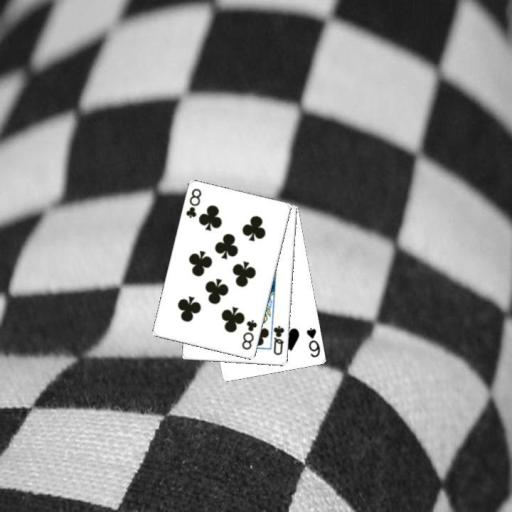6S: (304, 324, 322, 359)
8C: (239, 317, 259, 351), (183, 186, 203, 220)
QC: (271, 323, 286, 357)
